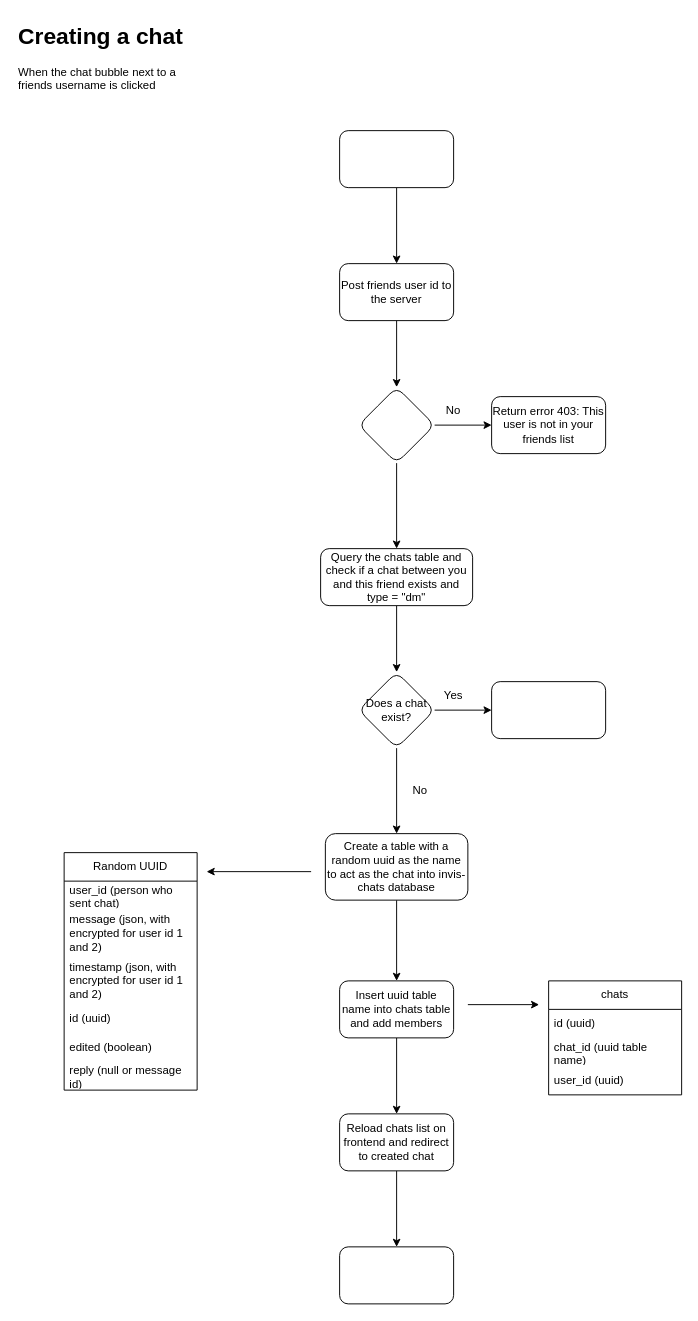
This 698x1321 diagram has some shape labels left out. The box of each missing label's shape, as (x1, y1, x2, y2) in pixels:
Is this user in your friends list?: (358, 386, 435, 463)
Redirect to /chats on that chat: (491, 681, 606, 739)
Send WebSocket message to friend to do the same: (339, 1246, 454, 1304)
When chat icon is clicked: (339, 130, 454, 188)
